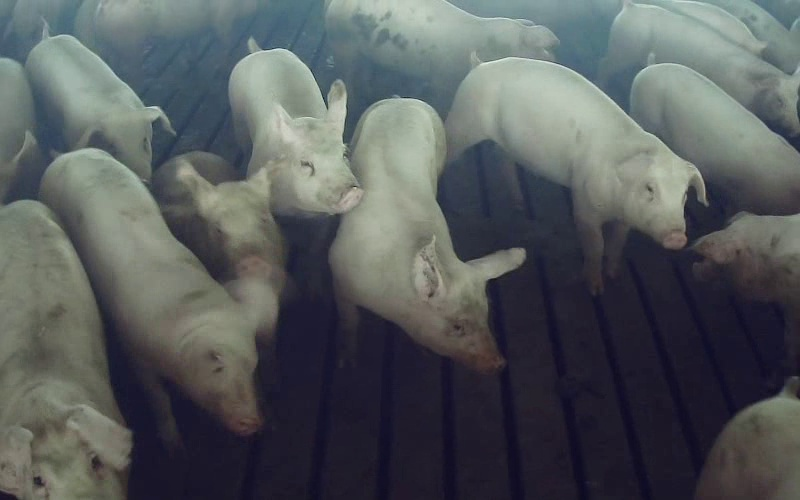pig: (40, 149, 261, 447), (446, 54, 706, 293), (329, 100, 524, 372), (631, 53, 799, 214), (601, 2, 799, 136), (229, 37, 362, 215), (26, 21, 173, 181), (325, 0, 558, 93), (152, 151, 284, 293)
